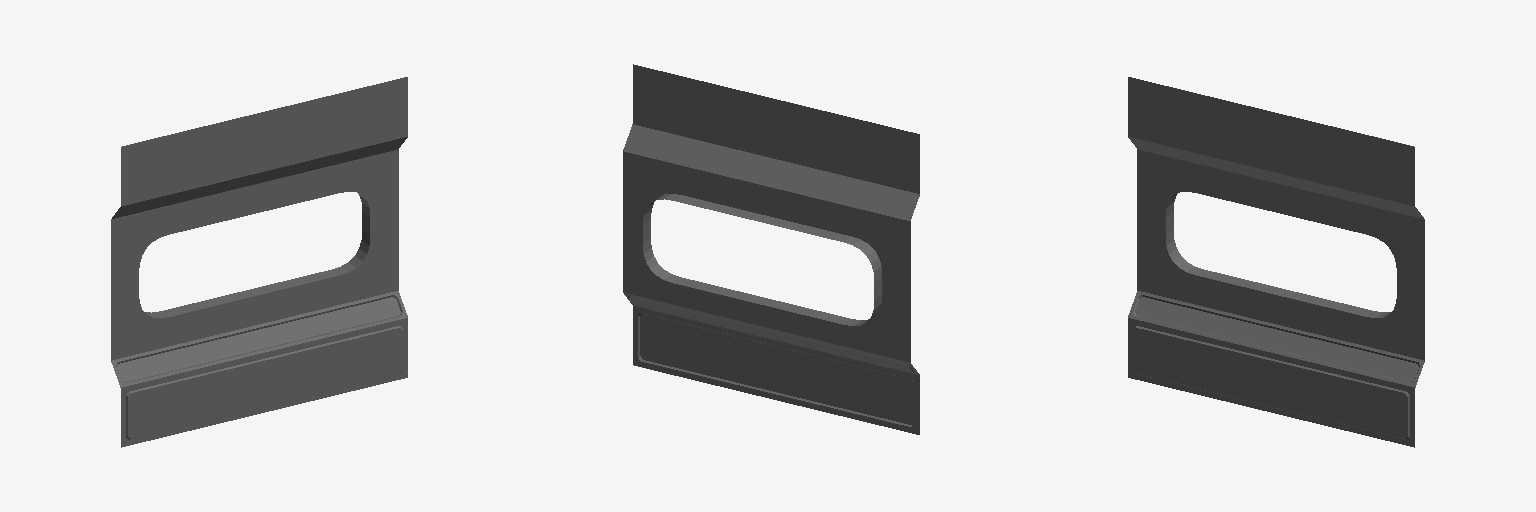
The model's file is Wall02_LP.obj.
The picture shows the model from 3 angles: view 1: azimuth 30°, elevation 25°; view 2: azimuth 150°, elevation 25°; view 3: azimuth 330°, elevation 25°; orthographic projection.
Parts seen in each view (by area): view 1: Plane001; view 2: Plane001; view 3: Plane001.
Part boxes in pixels (x1,y1,x2,y2): Plane001: (111,77,407,447); Plane001: (623,64,919,434); Plane001: (1128,77,1424,447).
Size of the model in its own units: 512 by 512 by 58.